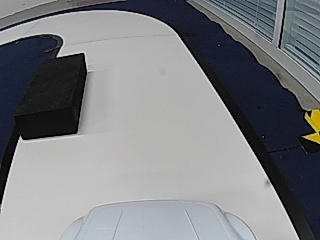block: (17, 53, 86, 138)
